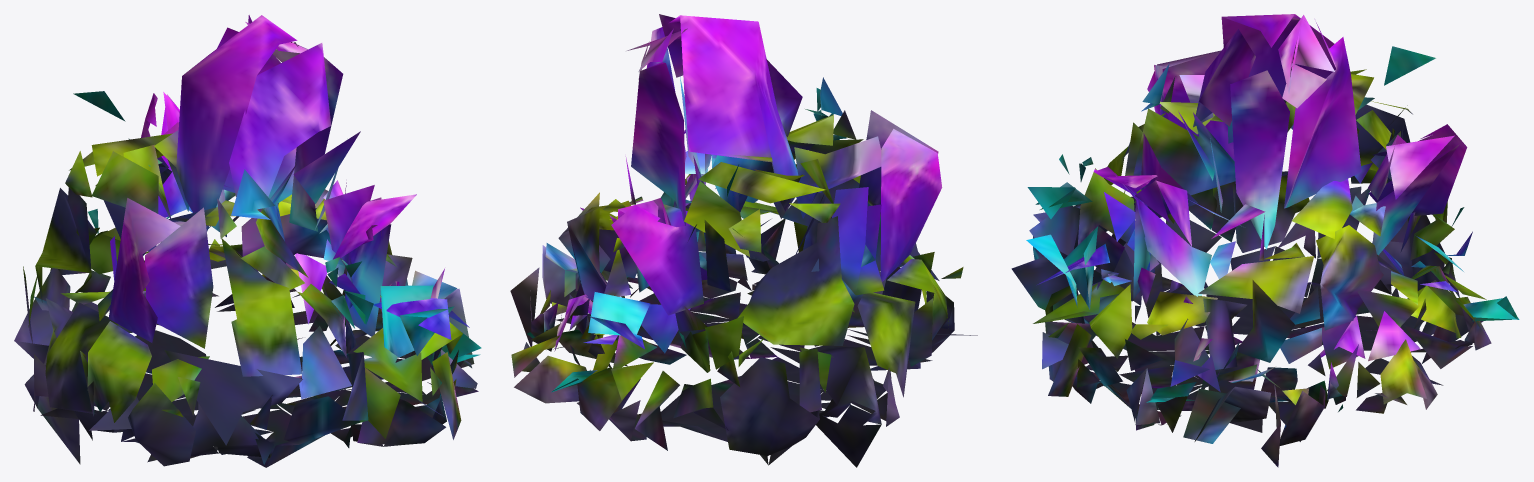
The model's file is cristais-lod.glb.
The picture shows the model from 3 angles, left to right: view 1: azimuth 30°, elevation 25°; view 2: azimuth 150°, elevation 25°; view 3: azimuth 270°, elevation 25°; orthographic projection.
Visible parts, largest first — view 1: cristais; view 2: cristais; view 3: cristais.
Part boxes in pixels (left/top/right/bottom): cristais: left=14, top=15, right=481, bottom=467; cristais: left=510, top=14, right=977, bottom=467; cristais: left=1011, top=14, right=1519, bottom=467.
Size of the model in its own units: 1.14 by 1.07 by 1.22.
1 material, 1 textured.
